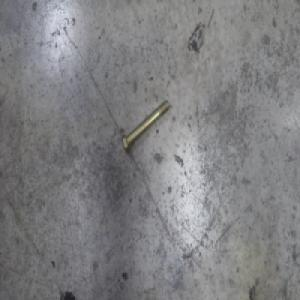Bolt: (121, 97, 170, 154)
